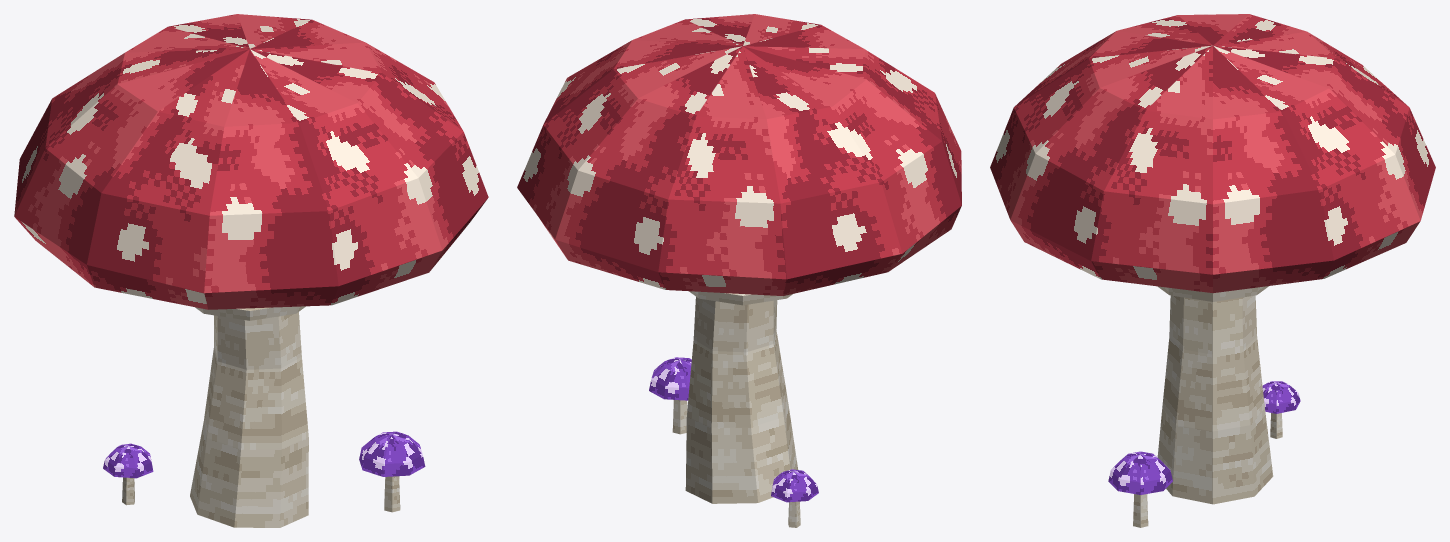
The model's file is mushroom_giant.glb.
The picture shows the model from 3 angles, left to right: view 1: azimuth 30°, elevation 25°; view 2: azimuth 150°, elevation 25°; view 3: azimuth 270°, elevation 25°; orthographic projection. The views are drawn at different scales.
Visible parts, largest first — view 1: mushroom_giant; view 2: mushroom_giant; view 3: mushroom_giant.
Part boxes in pixels (bbox=[...]): mushroom_giant: bbox=[14, 14, 488, 527]; mushroom_giant: bbox=[517, 14, 961, 527]; mushroom_giant: bbox=[990, 14, 1435, 527].
Bounding box in the file's own units: 2.58 × 2.8 × 2.6.
3 materials, 3 textured.
